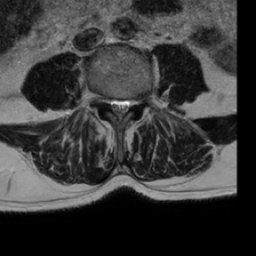CCS_normal: (116, 92, 123, 125)
LFS_stenosis: (131, 91, 140, 112)
LLS_normal: (123, 92, 131, 119)
RFS_stenosis: (100, 86, 108, 110)
RLS_normal: (108, 92, 116, 120)
